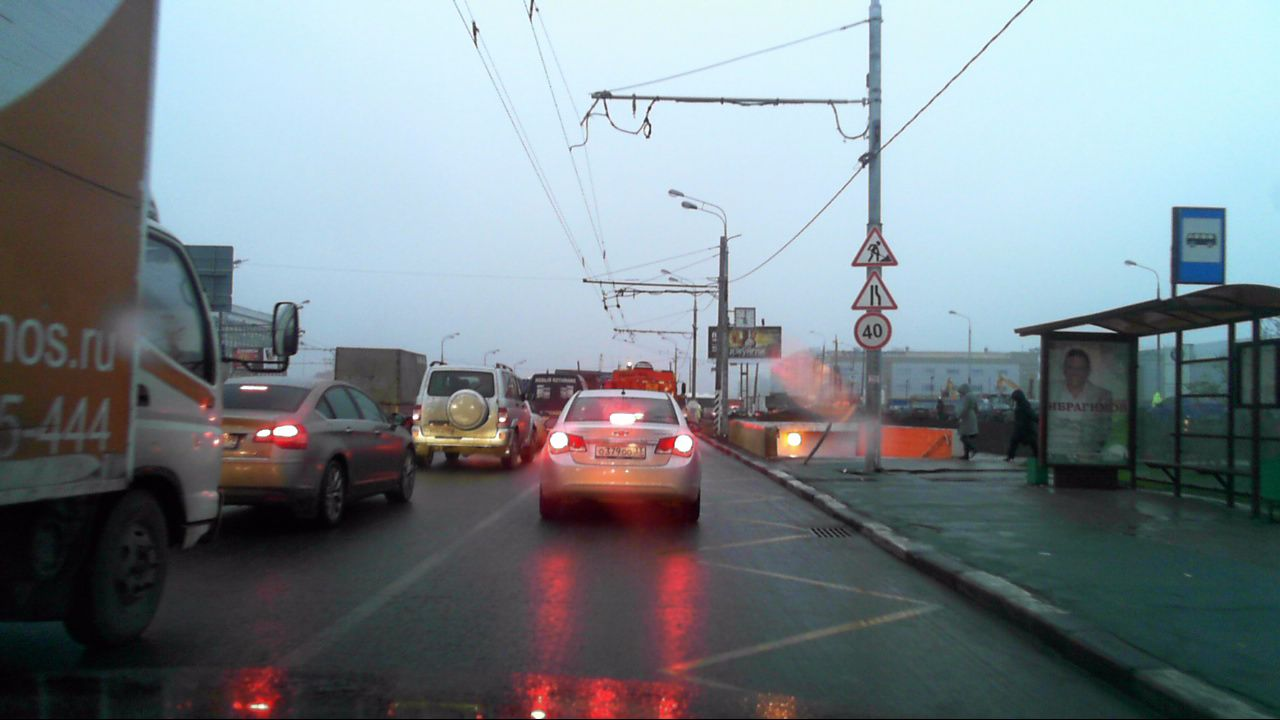speed_warning_40: (854, 312, 892, 349)
